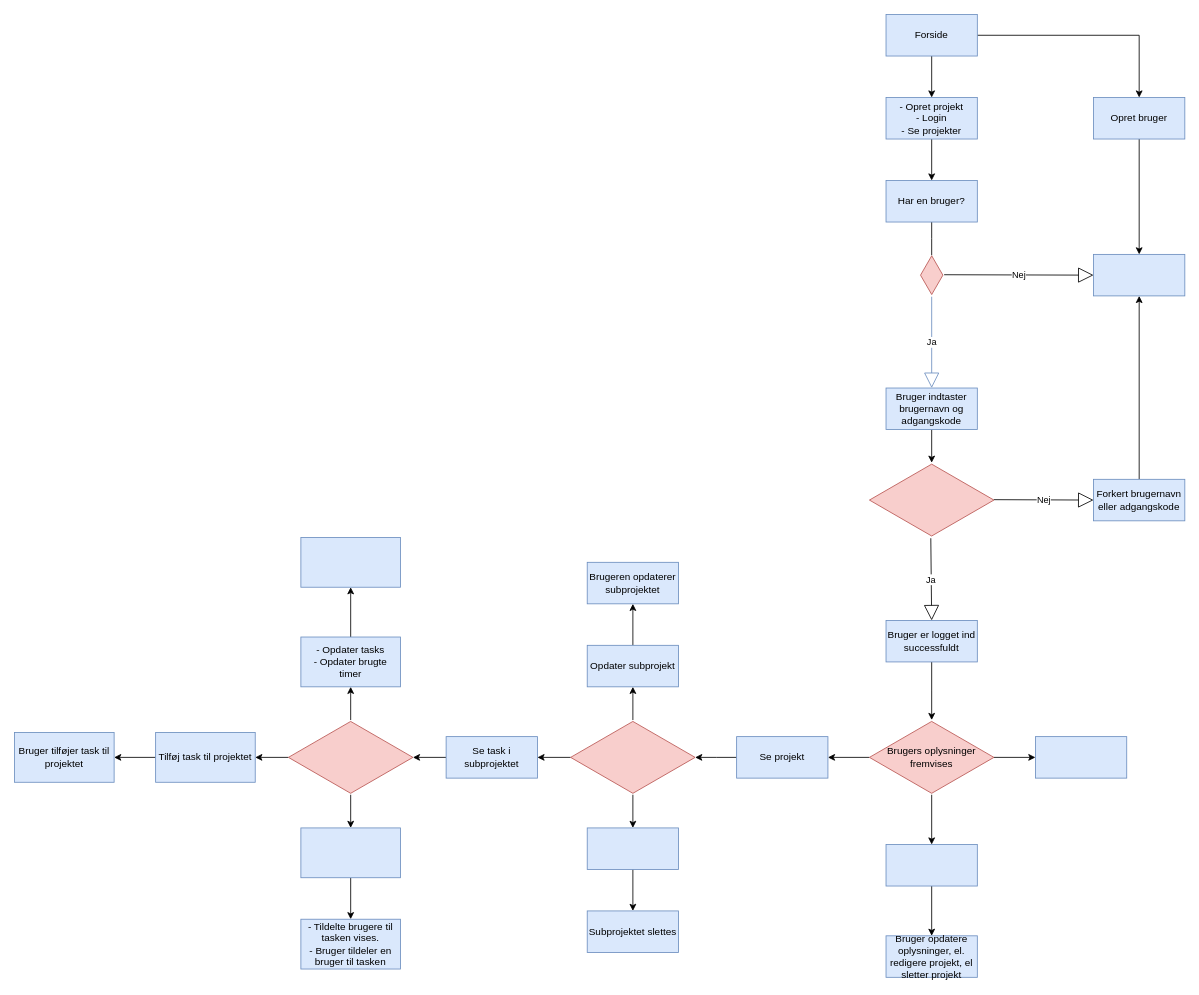
Some shapes in this 1199 by 995 pixel diagram are drawn without their labels. The centre of each missing label's shape, as x and y in pixels:
"- Vis tildelte brugere - Tildel en bruger" belongs at point 350,852.
"Bruger indtaster oplysninger og opretter bruger" belongs at point 1139,275.
"Brugeren opdaterer tasken. Brugeren opdaterer brugte timer" belongs at point 350,562.
"Korrekt brugernavn og adgangskode?" belongs at point 931,499.
"Opdater oplysninger Rediger projekt Slet projekt" belongs at point 931,865.
"Se arkiv" belongs at point 1081,757.
"Slet subprojekt" belongs at point 632,848.
"Subprojekter vises" belongs at point 632,757.
"Tasks vises" belongs at point 350,757.
